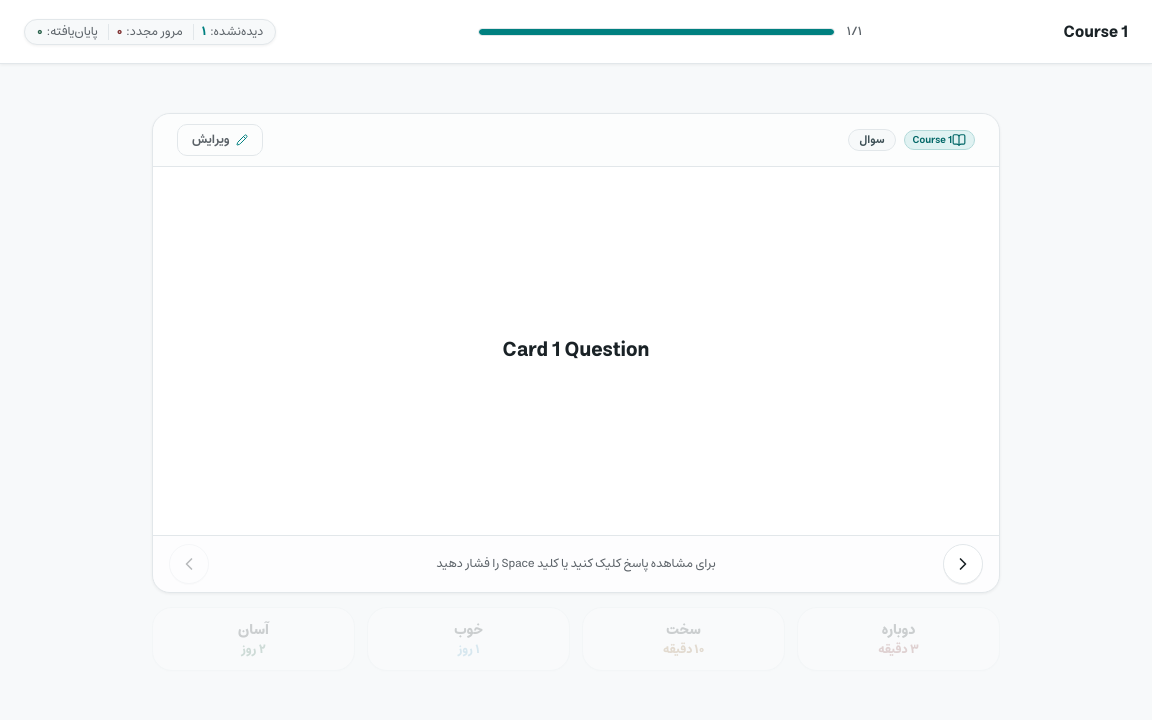
Test: Flashcard Experience Flow › prevents double submission and shows error banner on failed review request without skipping card
Flip card
Click the text "Card 1 Question". click: coordinates (576, 350)
box: x1=503 y1=333 x2=649 y2=368
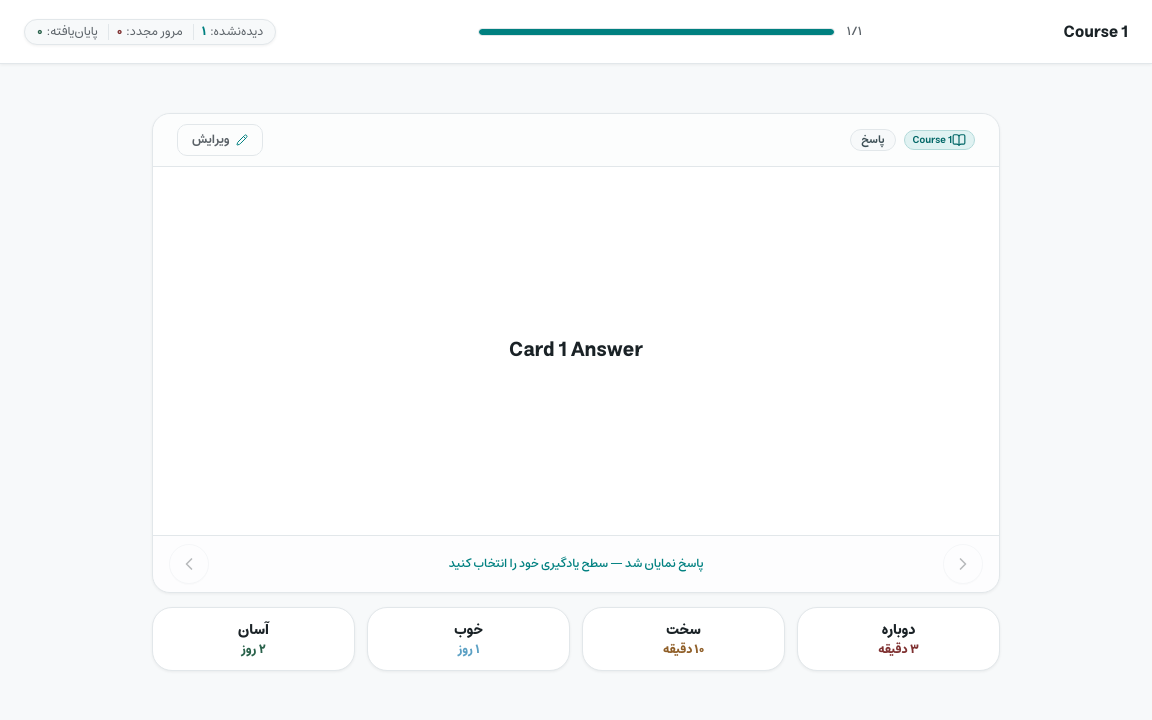
Expected: the text "Card 1 Answer" is shown, x1=509 y1=333 x2=643 y2=368
Click the button "خوب ۱ روز". click: coordinates (468, 639)
box: x1=367 y1=607 x2=570 y2=671
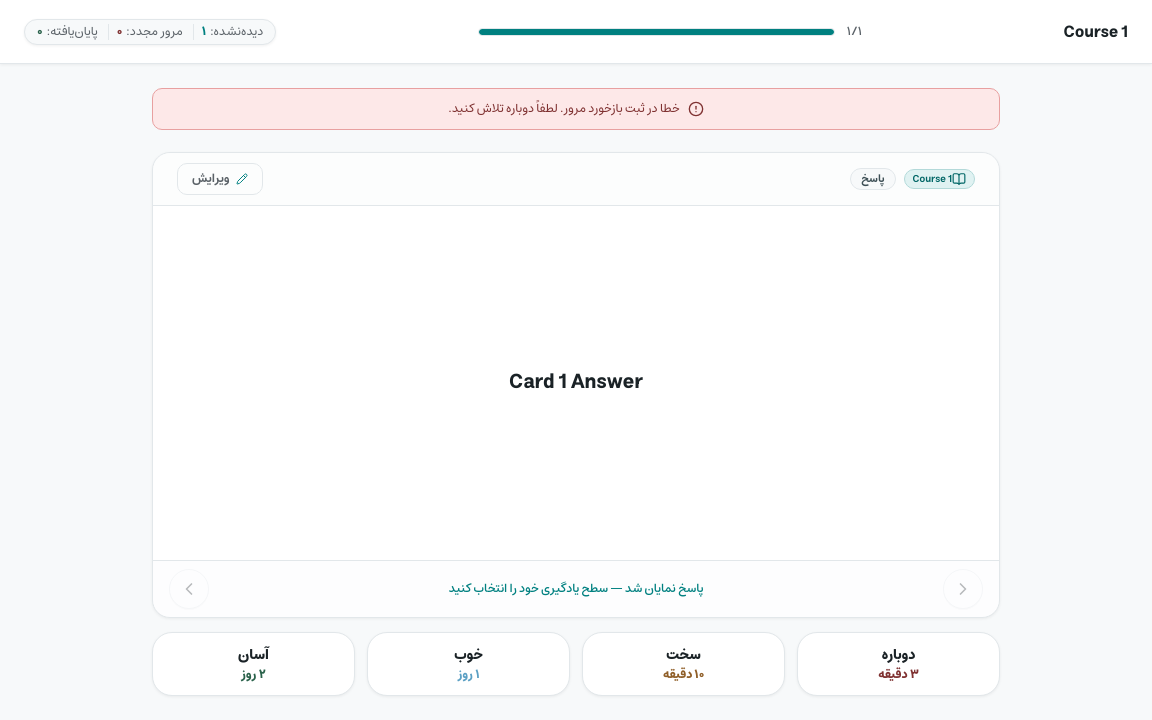
Expected: the text "Card 1 Answer" is shown, x1=509 y1=365 x2=643 y2=400
Expected: the text "خطا در ثبت بازخورد مرور. لطفاً دوباره تلاش کنید." is shown, x1=448 y1=101 x2=680 y2=117
